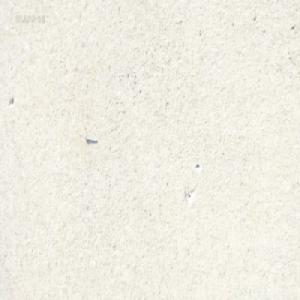Nail: (84, 134, 97, 143)
